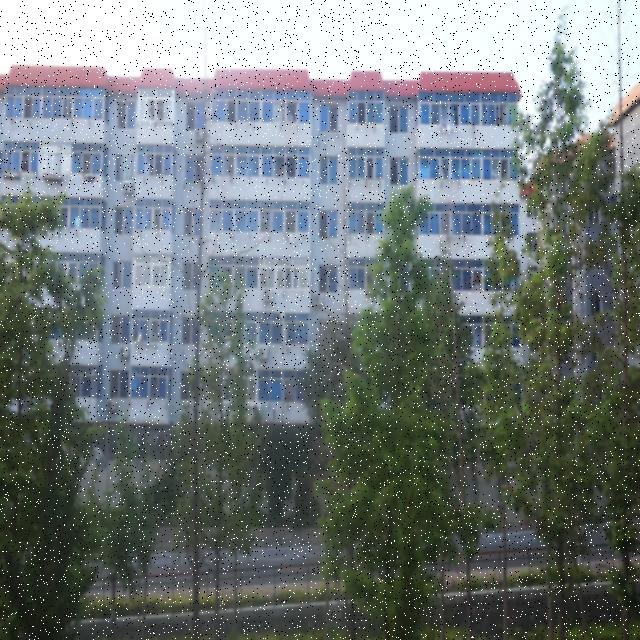UAV: (84, 174, 98, 183)
